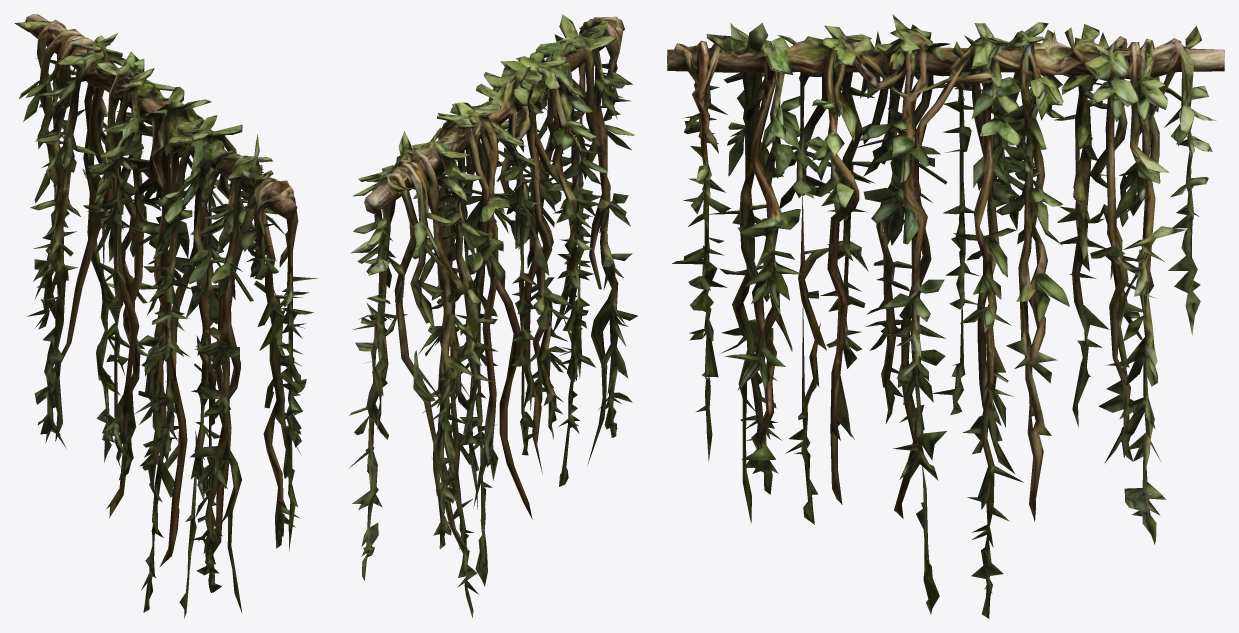
File: hanging_vines.fbx
3 renders of one model, left to right at view 1: azimuth 30°, elevation 25°; view 2: azimuth 150°, elevation 25°; view 3: azimuth 270°, elevation 25°, orthographic. The views are drawn at different scales.
Visible parts, largest first — view 1: hanging_vines; view 2: hanging_vines; view 3: hanging_vines.
Part boxes in pixels (x1,y1,x2,y2): hanging_vines: (14,14,318,618); hanging_vines: (349,14,637,618); hanging_vines: (667,14,1224,618).
Size of the model in its own units: 0.9276 by 4 by 3.36.
Materials: 1 (1 with a texture image).
